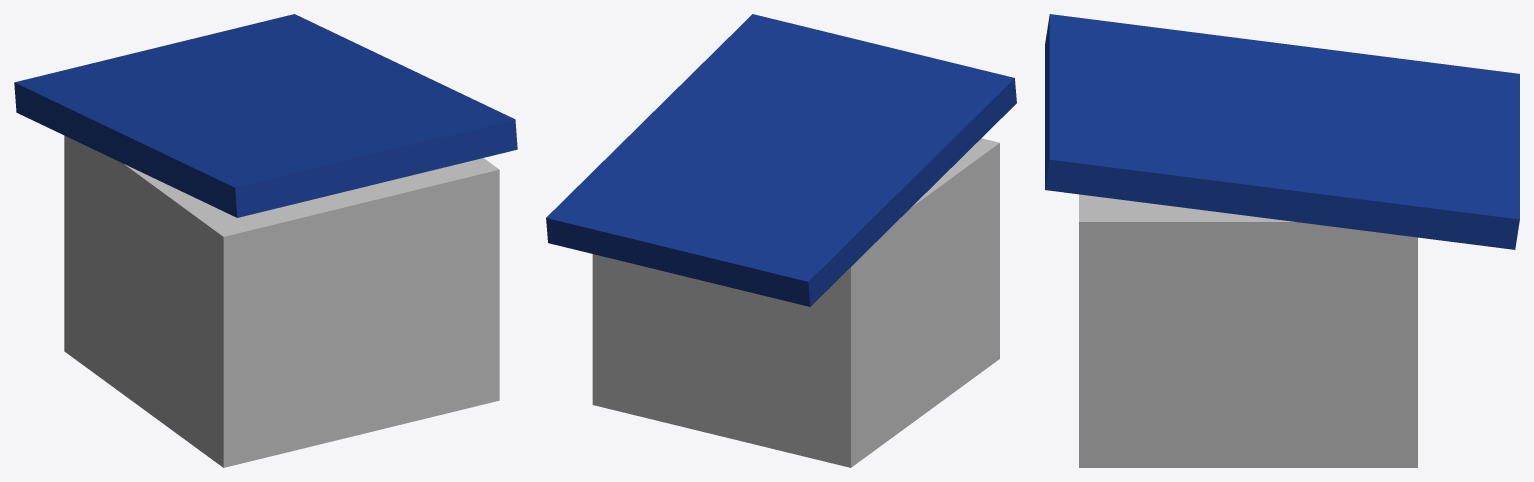
File: sport.pitch.starting_block.glb
The picture shows the model from 3 angles, left to right: view 1: azimuth 30°, elevation 25°; view 2: azimuth 150°, elevation 25°; view 3: azimuth 270°, elevation 25°; orthographic projection. The views are drawn at different scales.
Parts seen in each view (by area): view 1: main__steel_stainless, main__plastic_blue; view 2: main__plastic_blue, main__steel_stainless; view 3: main__steel_stainless, main__plastic_blue.
Boxes of the visible parts, x1,y1,x2,y2 form: main__steel_stainless: [64, 135, 499, 467]; main__plastic_blue: [14, 14, 517, 217]; main__plastic_blue: [546, 14, 1016, 306]; main__steel_stainless: [592, 138, 999, 467]; main__steel_stainless: [1079, 194, 1417, 467]; main__plastic_blue: [1045, 14, 1519, 249].
Size of the model in its own units: 0.508 by 0.5035 by 0.7001.
